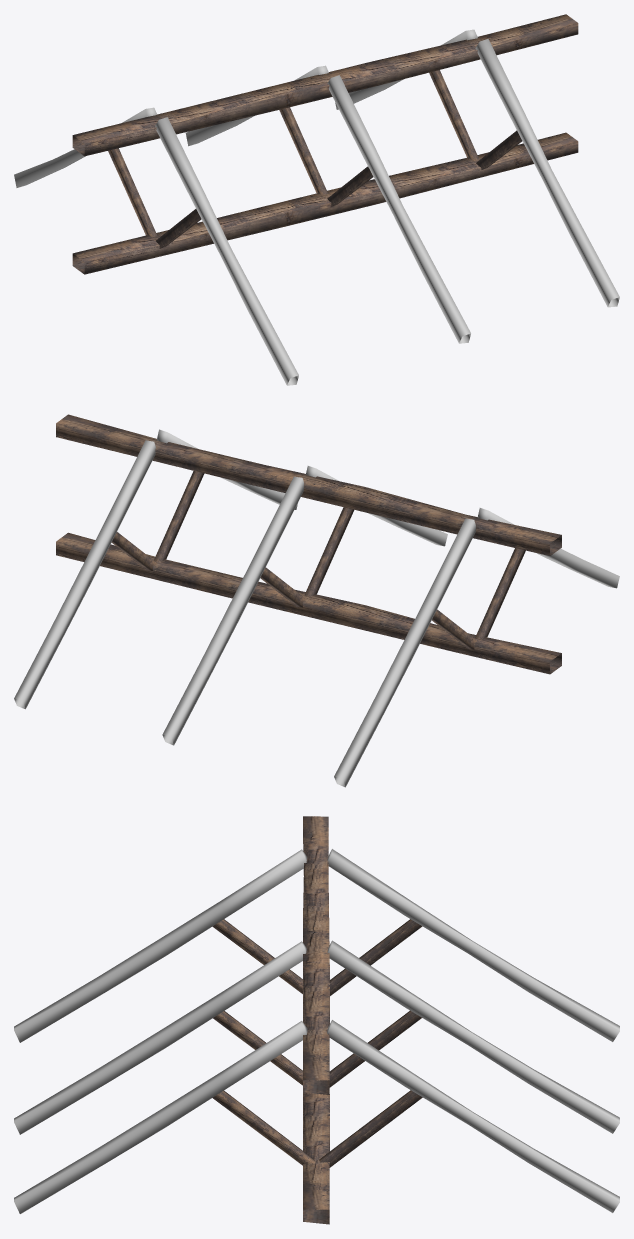
File: cabinWoodWork_01_LOD1.FBX
3 renders of one model, top to bottom at view 1: azimuth 30°, elevation 25°; view 2: azimuth 150°, elevation 25°; view 3: azimuth 270°, elevation 25°, orthographic. The views are drawn at different scales.
Visible parts, largest first — view 1: cabinWoodWork_01_LOD1; view 2: cabinWoodWork_01_LOD1; view 3: cabinWoodWork_01_LOD1.
Part boxes in pixels (x1,y1,x2,y2): cabinWoodWork_01_LOD1: (14, 14, 619, 385); cabinWoodWork_01_LOD1: (14, 414, 619, 787); cabinWoodWork_01_LOD1: (14, 816, 619, 1224).
Size of the model in its own units: 40.8 by 13.7 by 39.62.
